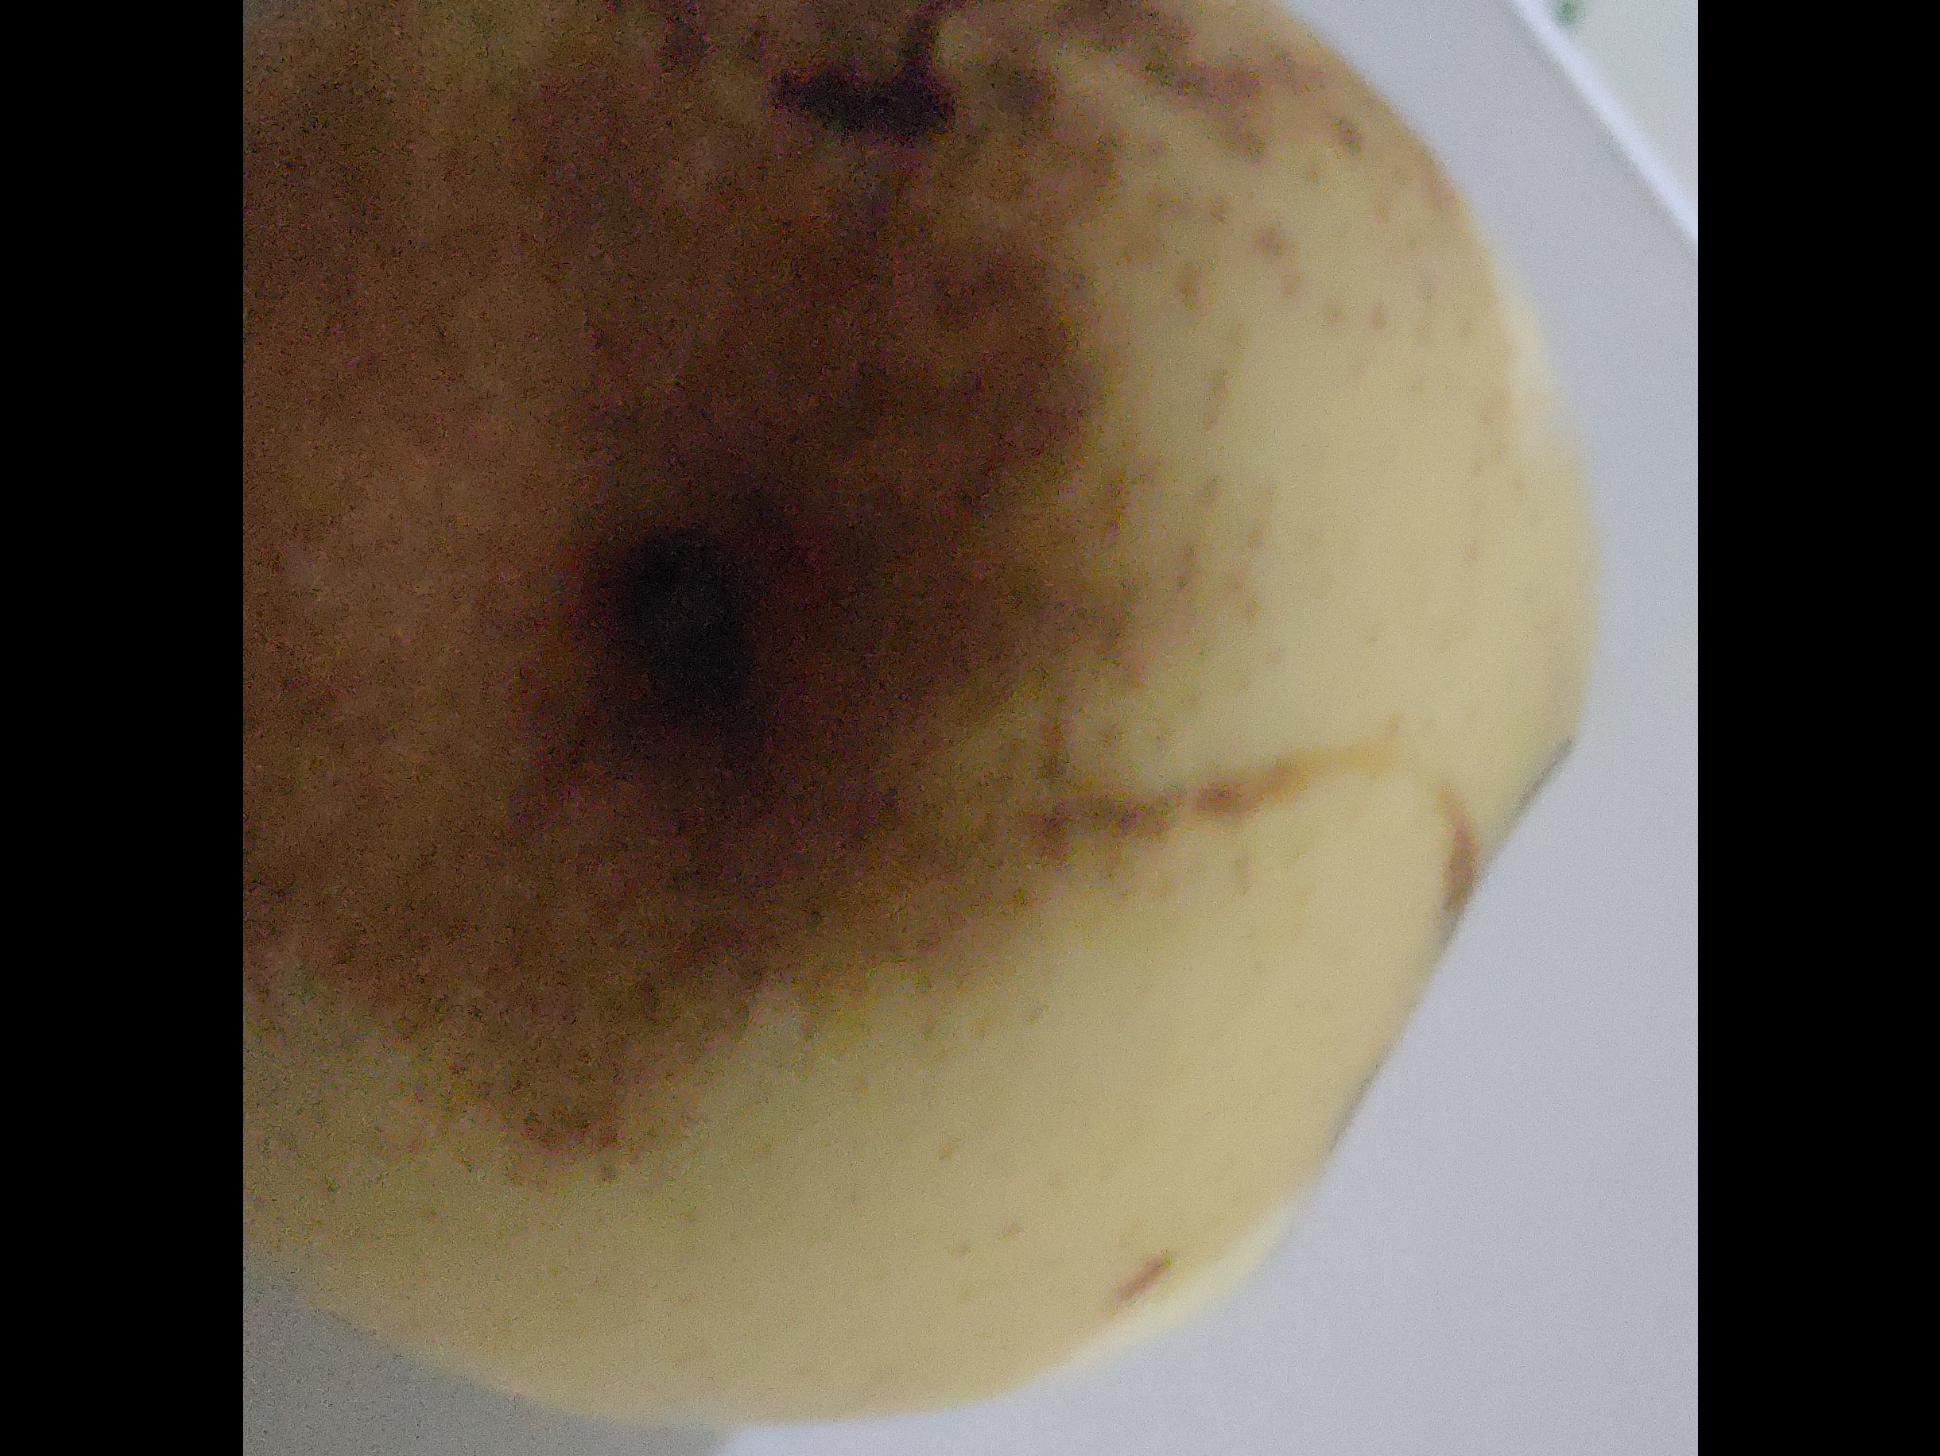Bad Pear: (242, 0, 1634, 1442)
